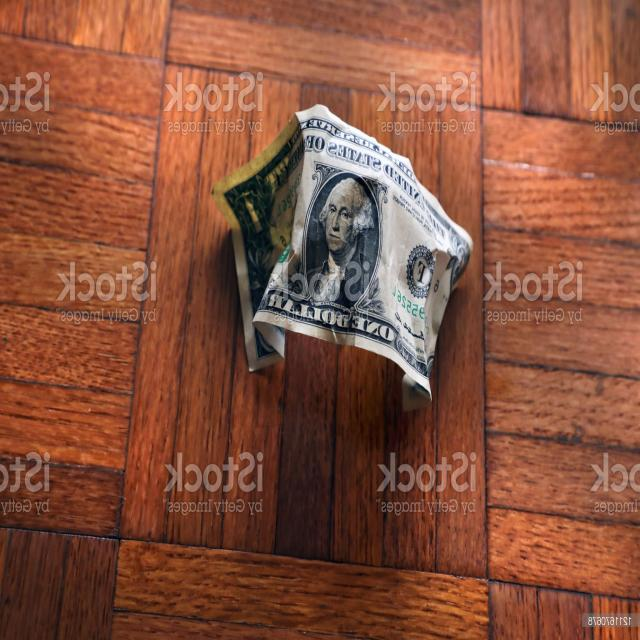paper: (168, 82, 484, 402)
